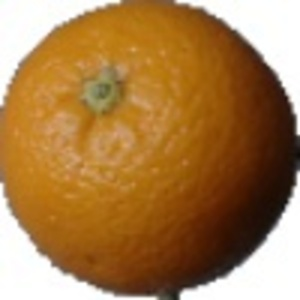laranja: (10, 2, 296, 297)
